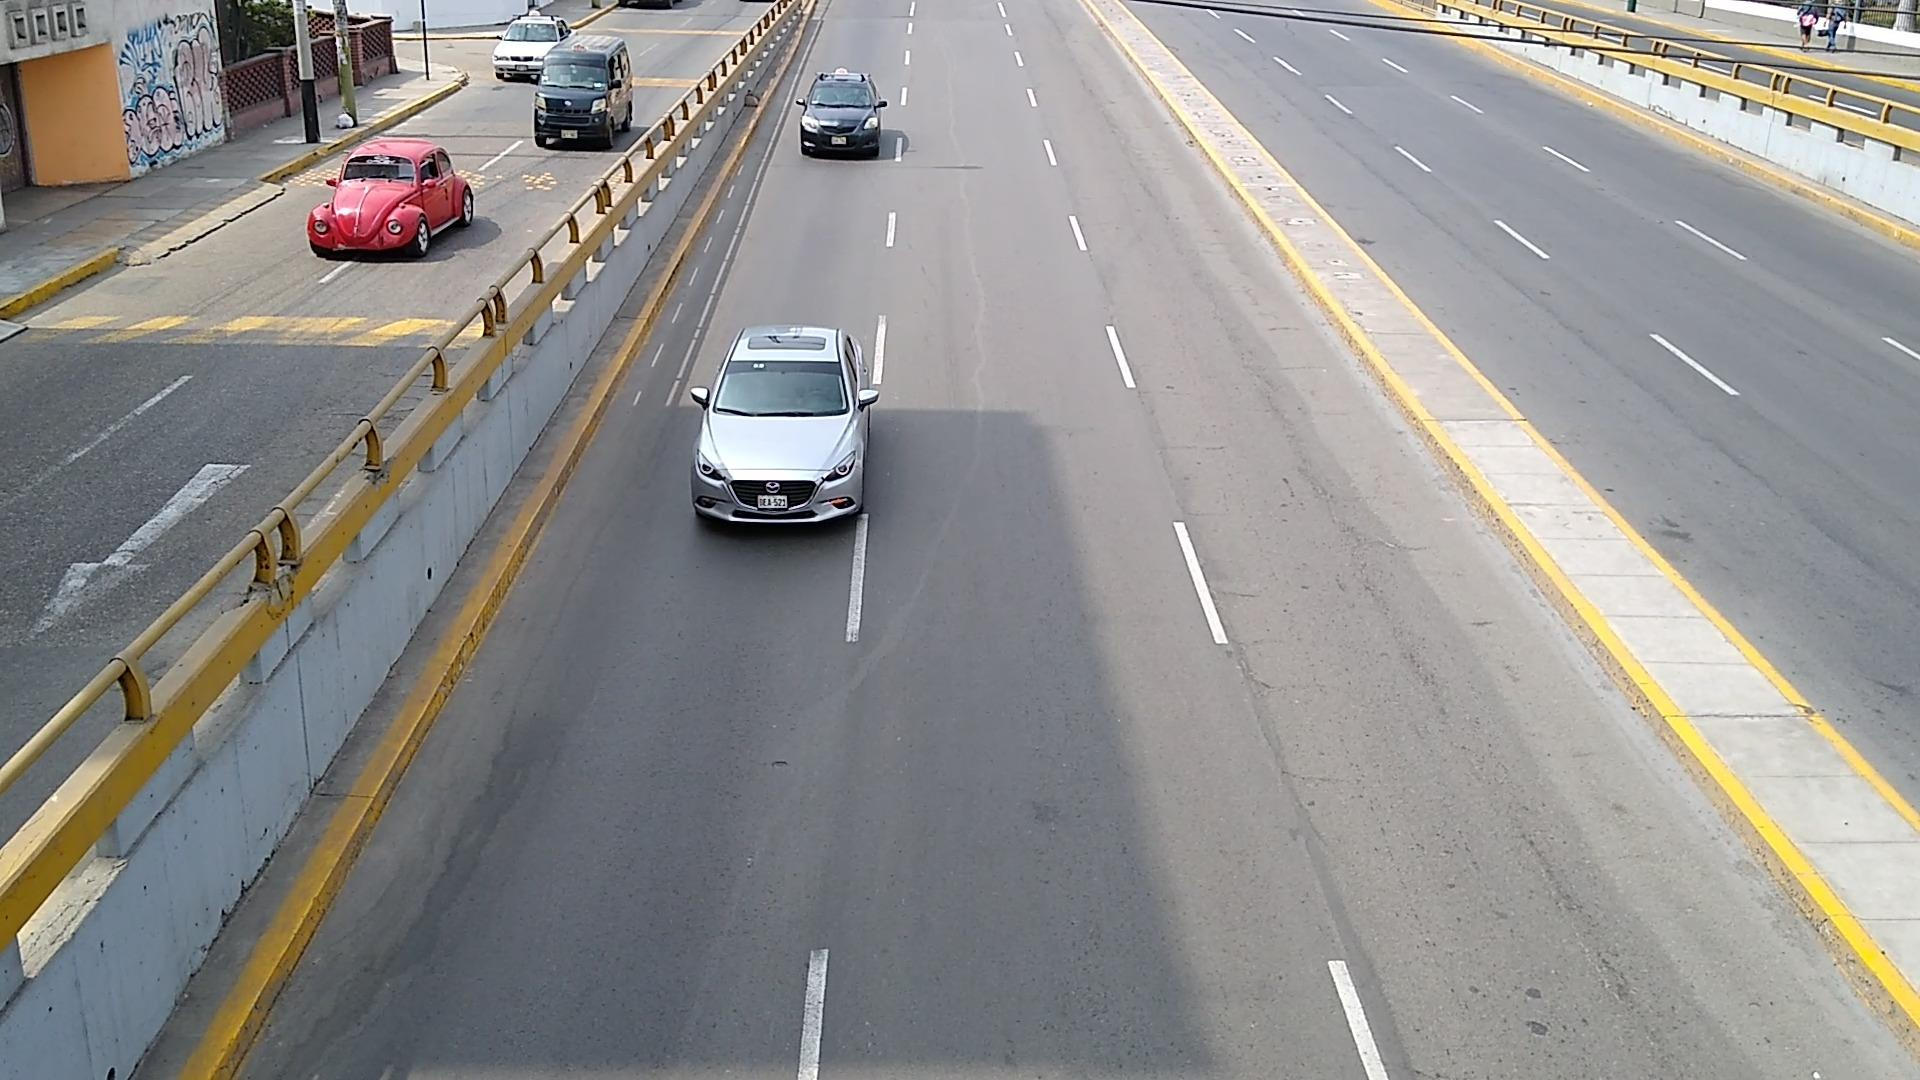car: (694, 323, 877, 524), (307, 138, 472, 258), (799, 67, 885, 156), (492, 15, 574, 79)
minivan: (533, 34, 634, 150)
